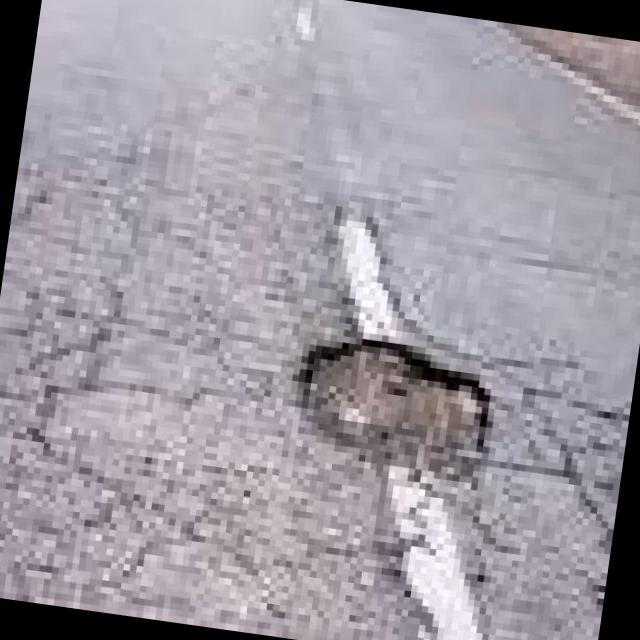Pothole: (297, 320, 496, 476), (298, 333, 496, 477)
